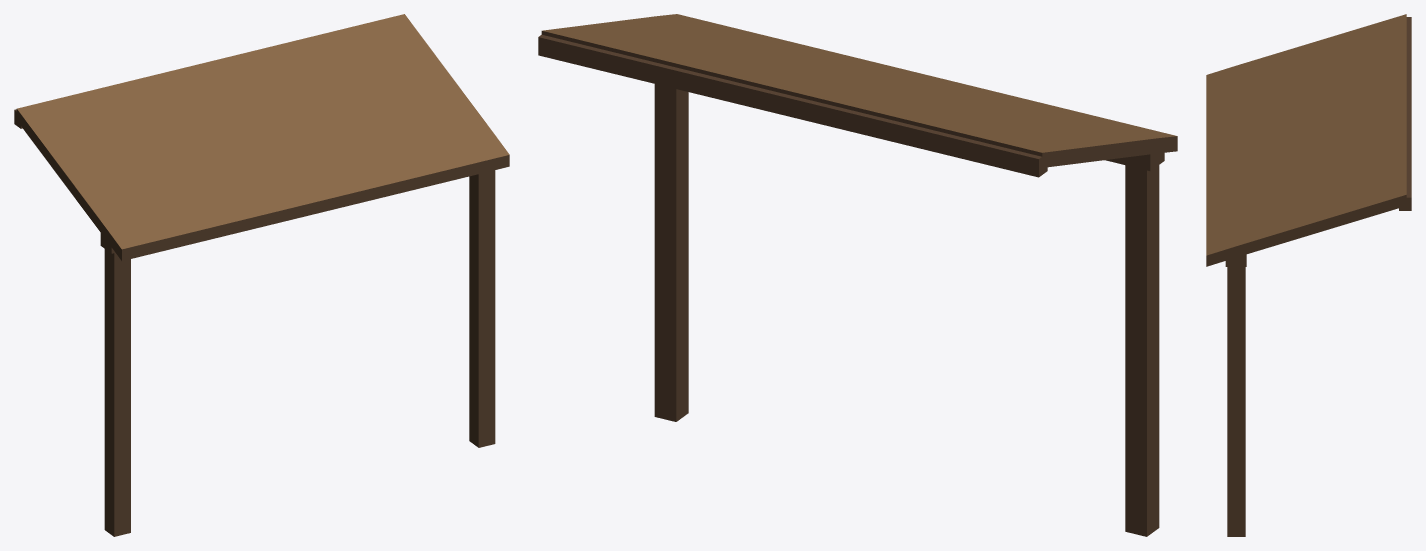
File: serving_shelter.glb
3 renders of one model, left to right at view 1: azimuth 30°, elevation 25°; view 2: azimuth 150°, elevation 25°; view 3: azimuth 270°, elevation 25°, orthographic. The views are drawn at different scales.
Parts seen in each view (by area): view 1: Serving shelter; view 2: Serving shelter; view 3: Serving shelter.
Boxes of the visible parts, bbox=[...] form: Serving shelter: bbox=[14, 14, 509, 536]; Serving shelter: bbox=[538, 14, 1177, 536]; Serving shelter: bbox=[1206, 14, 1411, 536].
Bounding box in the file's own units: 2 × 1.77 × 0.961.
